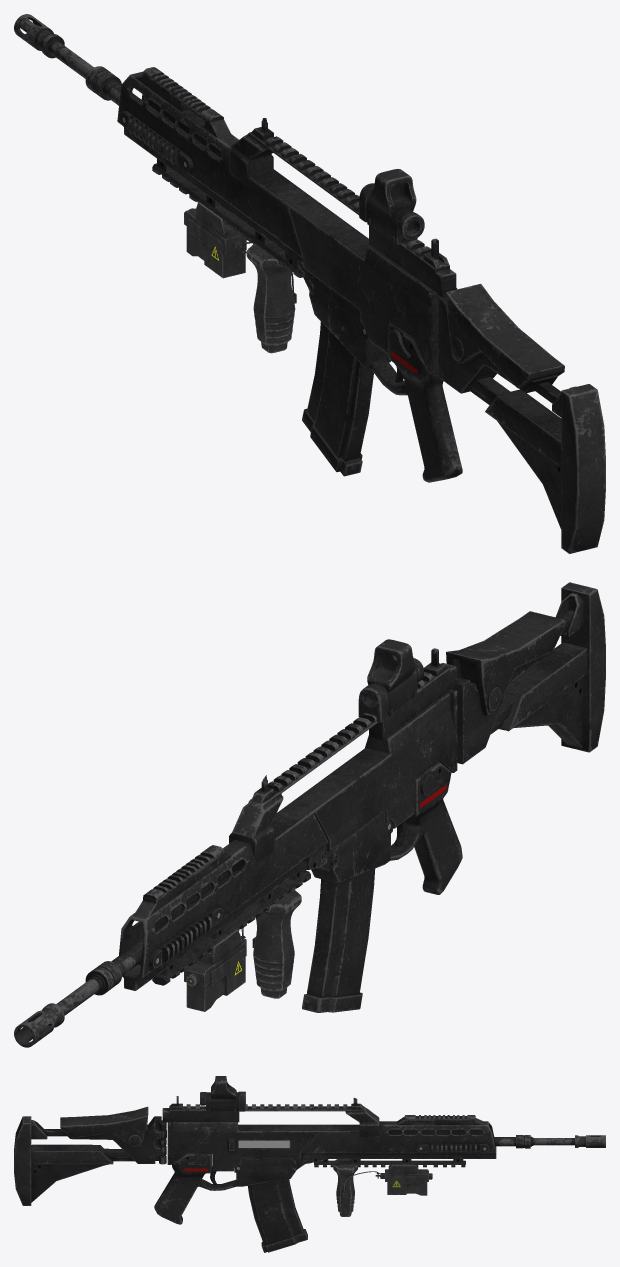
The picture shows the model from 3 angles, top to bottom: view 1: azimuth 30°, elevation 25°; view 2: azimuth 150°, elevation 25°; view 3: azimuth 270°, elevation 25°; orthographic projection. The views are drawn at different scales.
Parts seen in each view (by area): view 1: g36, Laser, Scope; view 2: g36, Laser, Scope; view 3: g36, Laser, Scope.
Part boxes in pixels (x1=…): g36: x1=14, y1=14, x2=605, y2=553; Laser: x1=184, y1=202, x2=296, y2=353; Scope: x1=359, y1=169, x2=424, y2=244; g36: x1=14, y1=582, x2=605, y2=1047; Laser: x1=184, y1=889, x2=301, y2=1011; Scope: x1=358, y1=639, x2=424, y2=722; g36: x1=14, y1=1096, x2=605, y2=1252; Laser: x1=333, y1=1159, x2=432, y2=1216; Scope: x1=200, y1=1076, x2=245, y2=1111.
Bounding box in the file's own units: 57.68 × 436 × 1356.
3 materials, 3 textured.
